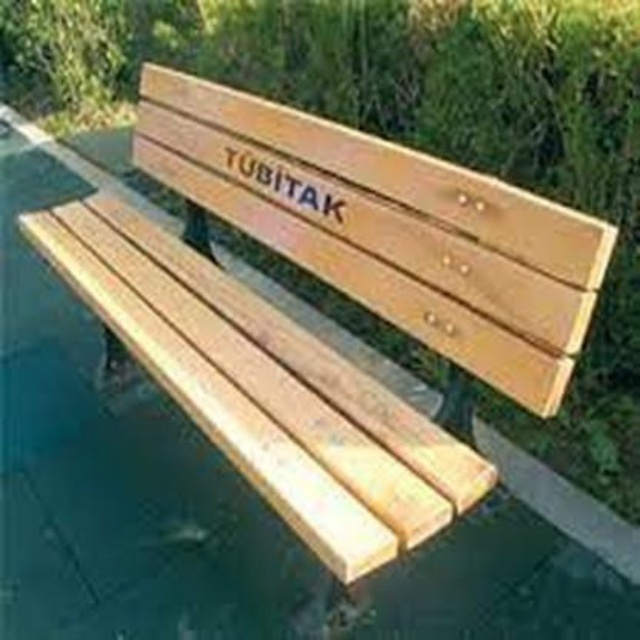obstacle: (11, 45, 611, 595)
